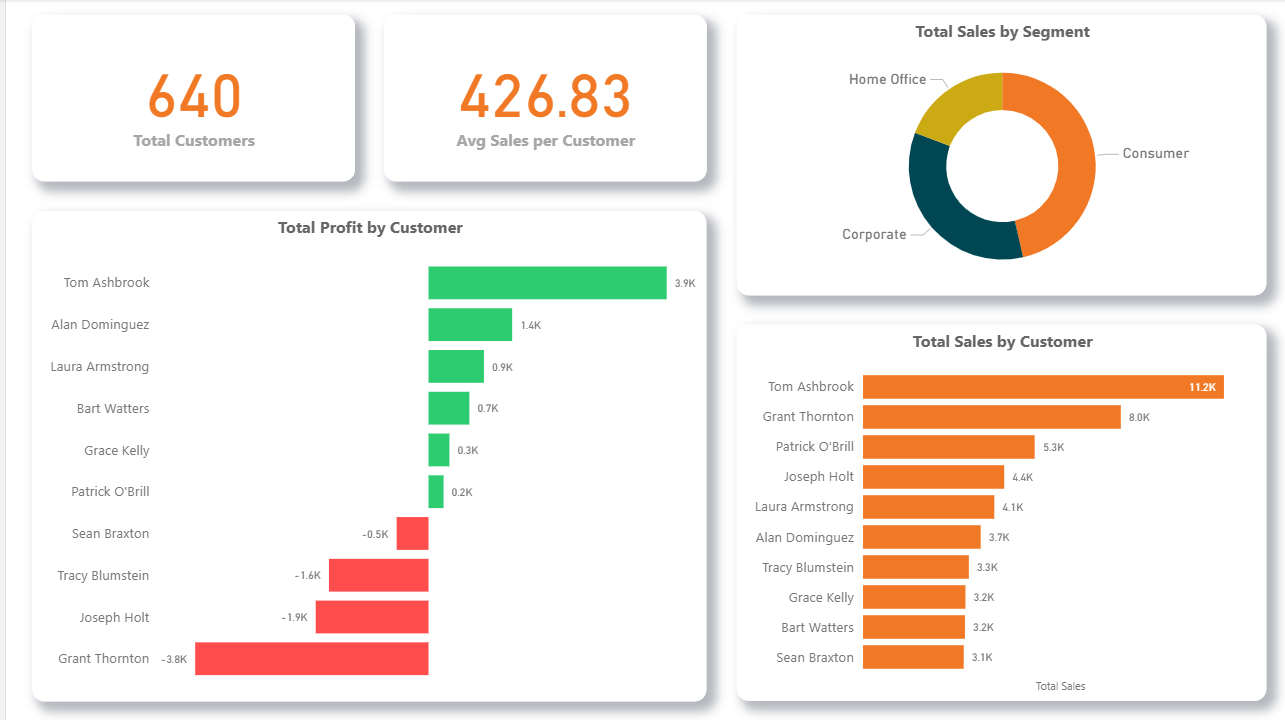

The page's visual inventory and layout, read from the dashboard file:
{"tool":"powerbi","page":{"name":"Customer Analysis","canvas":[1280,720],"ordinal":2},"visuals":[{"type":"card","fields":{"Values":["sales_data.Total Customers"]},"box":[25.8,16.1,320.9,165.3],"z":0},{"type":"barChart","title":"Total Sales by Customer","fields":{"Y":["sales_data.Total Sales"],"Category":["sales_data.Customer Name"]},"box":[726.5,324.1,526.9,374.5],"z":1000},{"type":"barChart","title":"Total Profit by Customer ","fields":{"Category":["sales_data.Customer Name"],"Y":["sales_data.Total Profit"]},"box":[25.8,211.4,670.7,487.2],"z":2000},{"type":"donutChart","fields":{"Y":["sales_data.Total Sales"],"Category":["sales_data.Segment"]},"box":[726.5,16.1,526.9,279],"z":3000},{"type":"card","fields":{"Values":["sales_data.Avg Sales per Customer"]},"box":[375.6,16.1,320.9,165.3],"z":4000}]}

Visuals, with their boxes in screenshot pixels (x1, y1, x2, y2), scaled from the page's 1280x720 canvas onto the 1285x720 screenshot:
card - sales_data.Total Customers: [26, 16, 348, 181]
"Total Sales by Customer" barChart: [729, 324, 1258, 699]
"Total Profit by Customer " barChart: [26, 211, 699, 699]
donutChart - sales_data.Total Sales x sales_data.Segment: [729, 16, 1258, 295]
card - sales_data.Avg Sales per Customer: [377, 16, 699, 181]
